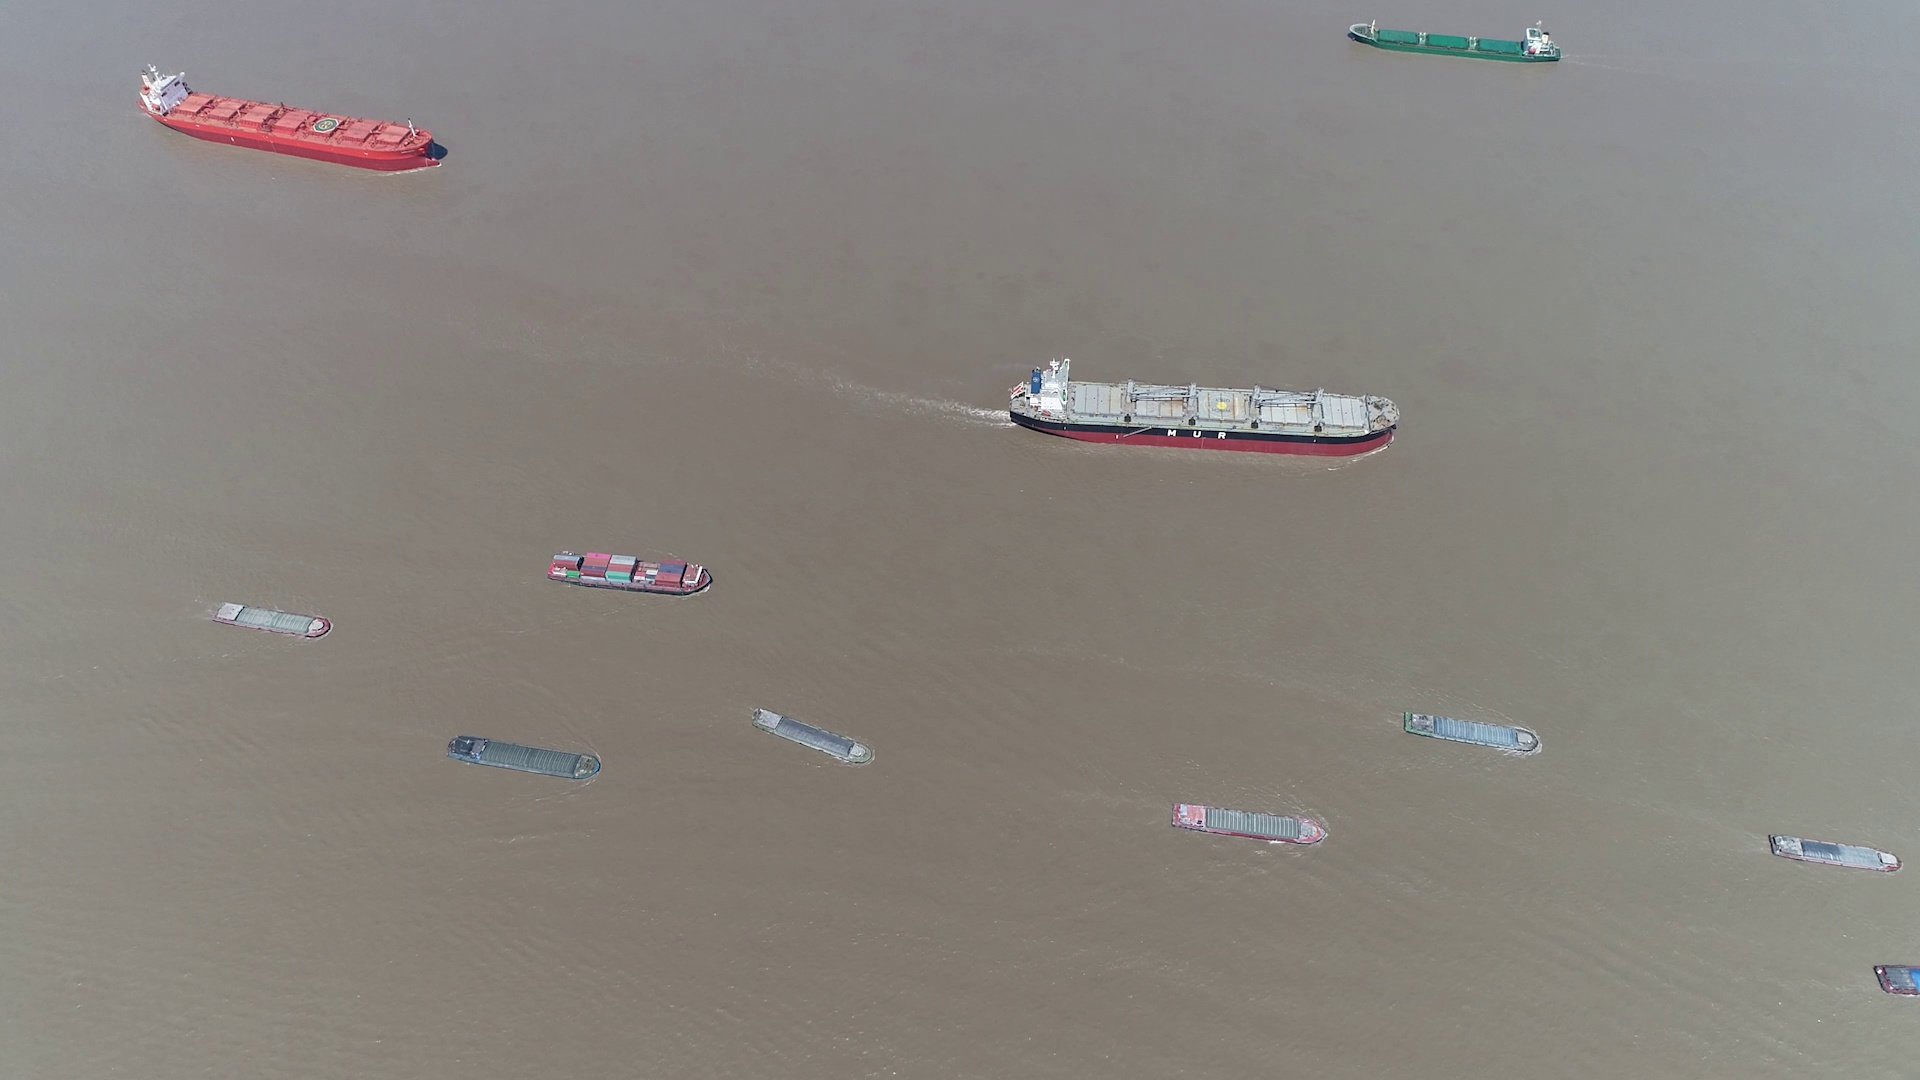ship: (1009, 363, 1396, 459), (141, 63, 444, 167), (1346, 22, 1561, 63), (547, 549, 715, 596), (447, 735, 604, 782), (753, 707, 873, 767), (1172, 803, 1327, 845), (1404, 712, 1543, 754), (1764, 833, 1902, 873), (210, 600, 328, 638), (1874, 964, 1919, 996)
